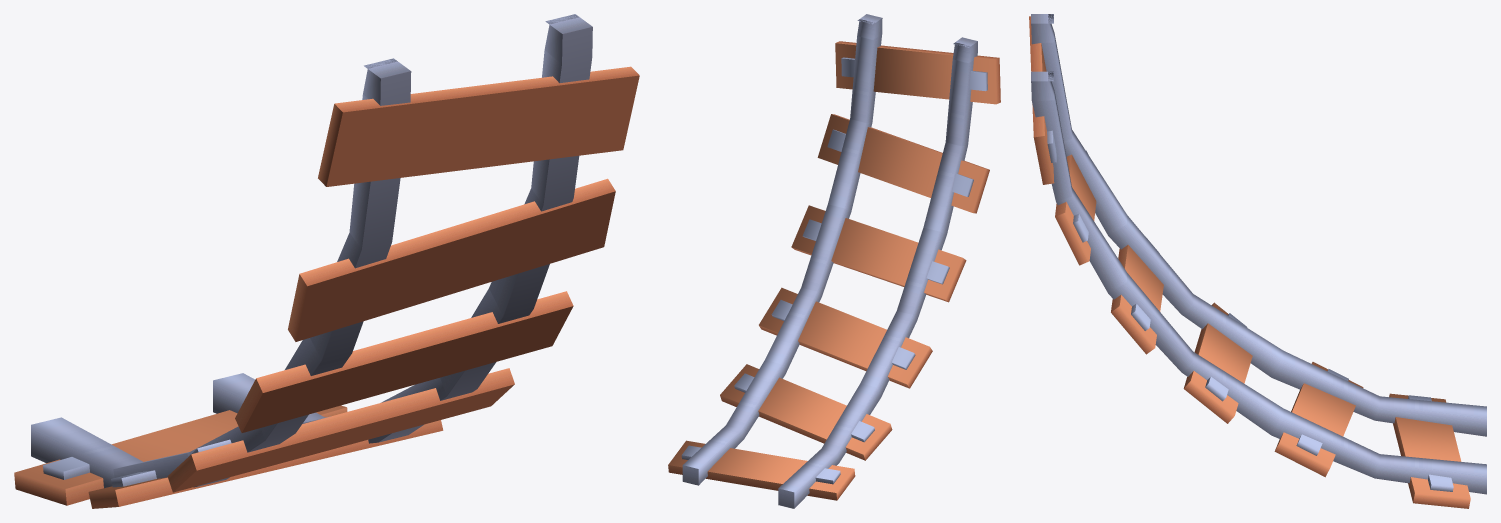
File: kenney-train-railroad-damaged-straight-bend.glb
3 views of the same model, side by side, from view 1: azimuth 30°, elevation 25°; view 2: azimuth 150°, elevation 25°; view 3: azimuth 270°, elevation 25° (orthographic). The views are drawn at different scales.
Parts seen in each view (by area): view 1: railroad-damaged-straight-bend; view 2: railroad-damaged-straight-bend; view 3: railroad-damaged-straight-bend.
Part boxes in pixels (bbox=[...]): railroad-damaged-straight-bend: bbox=[14, 14, 639, 508]; railroad-damaged-straight-bend: bbox=[668, 14, 1000, 508]; railroad-damaged-straight-bend: bbox=[1029, 14, 1486, 508].
Bounding box in the file's own units: 1.03 × 2.01 × 2.01.
1 material, 1 textured.
